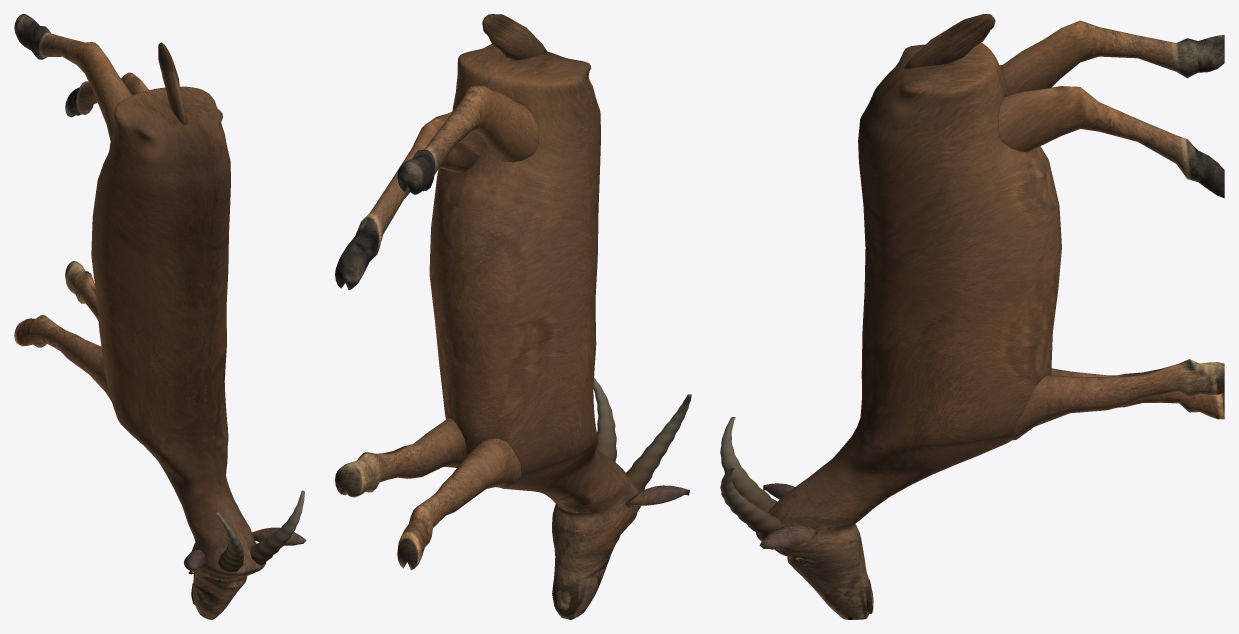
Rendered from goat.obj.
3 views of the same model, side by side, from view 1: azimuth 30°, elevation 25°; view 2: azimuth 150°, elevation 25°; view 3: azimuth 270°, elevation 25° (orthographic). The views are drawn at different scales.
Parts seen in each view (by area): view 1: goat; view 2: goat; view 3: goat.
Part boxes in pixels (<box>): goat: <box>14,14,306,619</box>; goat: <box>335,14,691,619</box>; goat: <box>720,14,1224,619</box>.
Size of the model in its own units: 0.3057 by 1.31 by 0.9822.
1 material, 1 textured.
